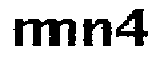4: (115, 7, 150, 49)
m: (12, 16, 55, 46)
n: (81, 16, 114, 49), (55, 16, 78, 52)
